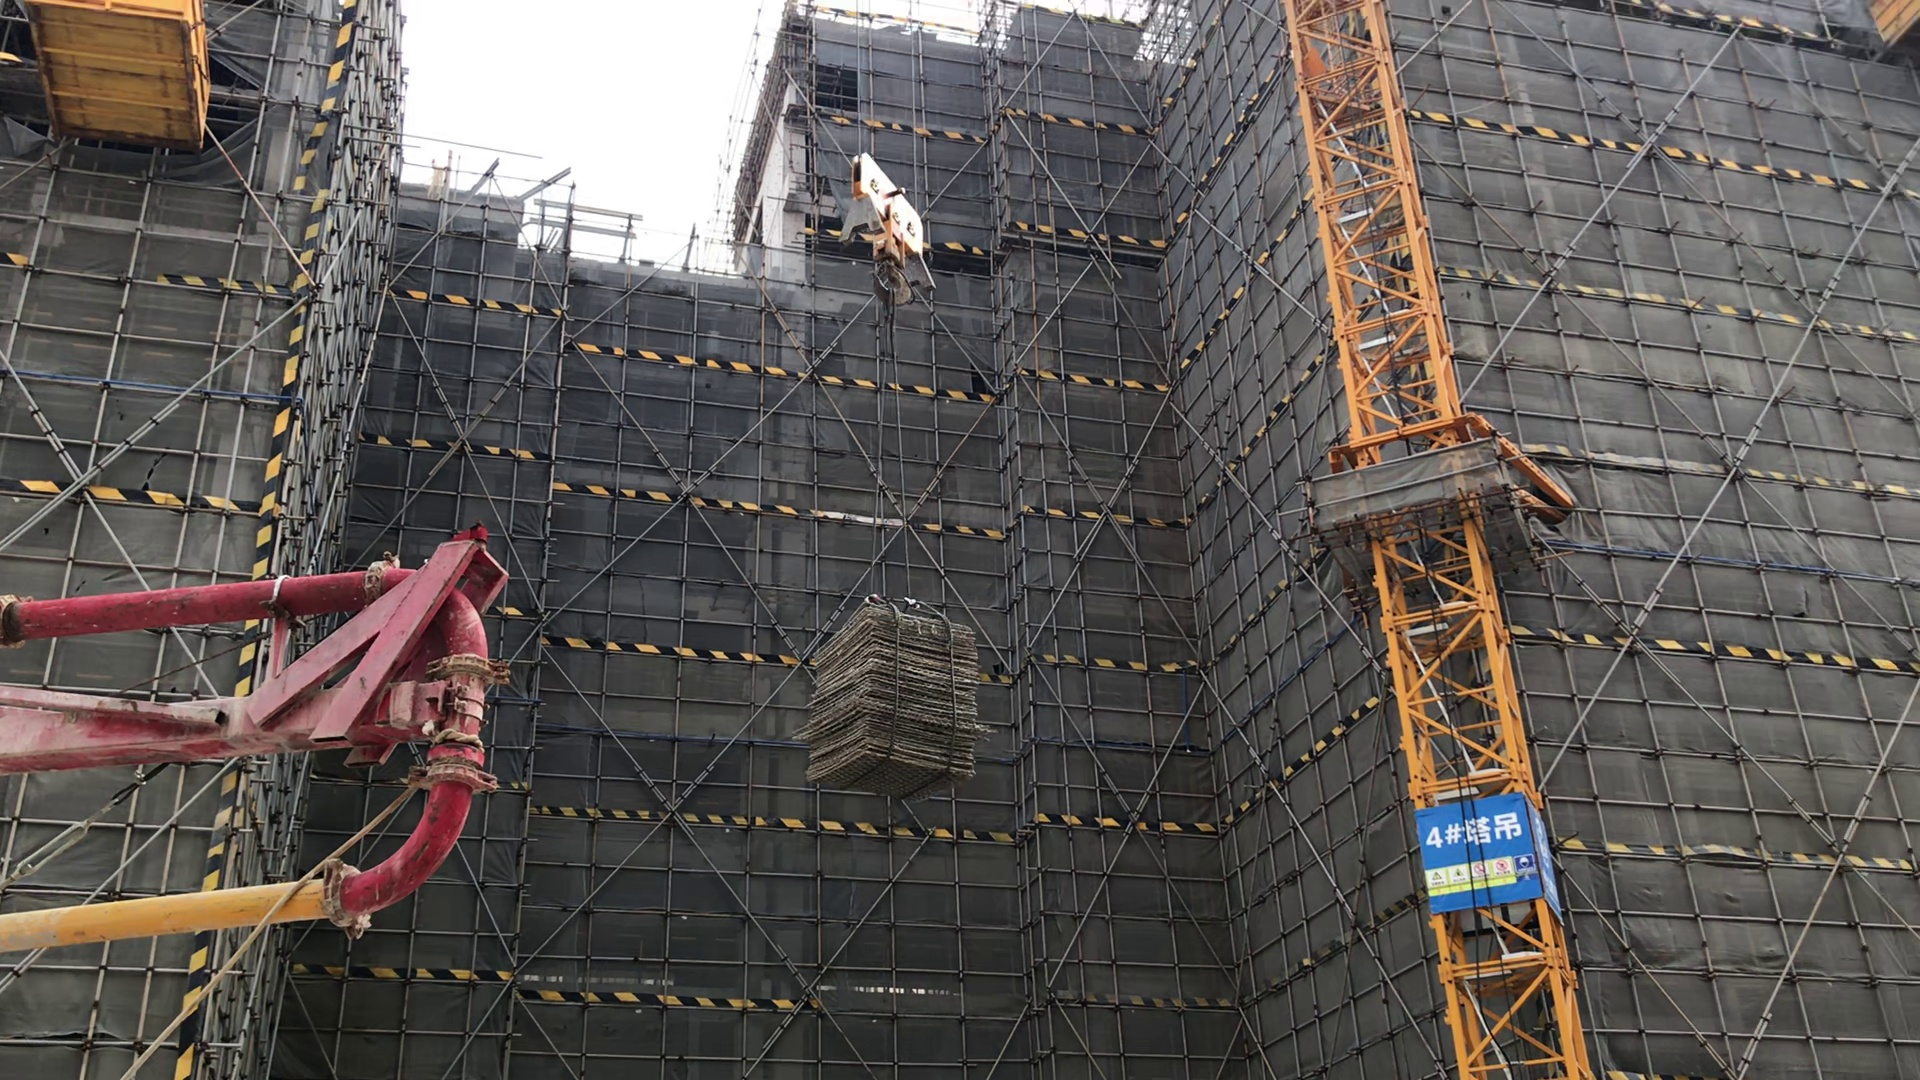hook: (833, 150, 928, 305)
slogan: (1425, 812, 1542, 893)
